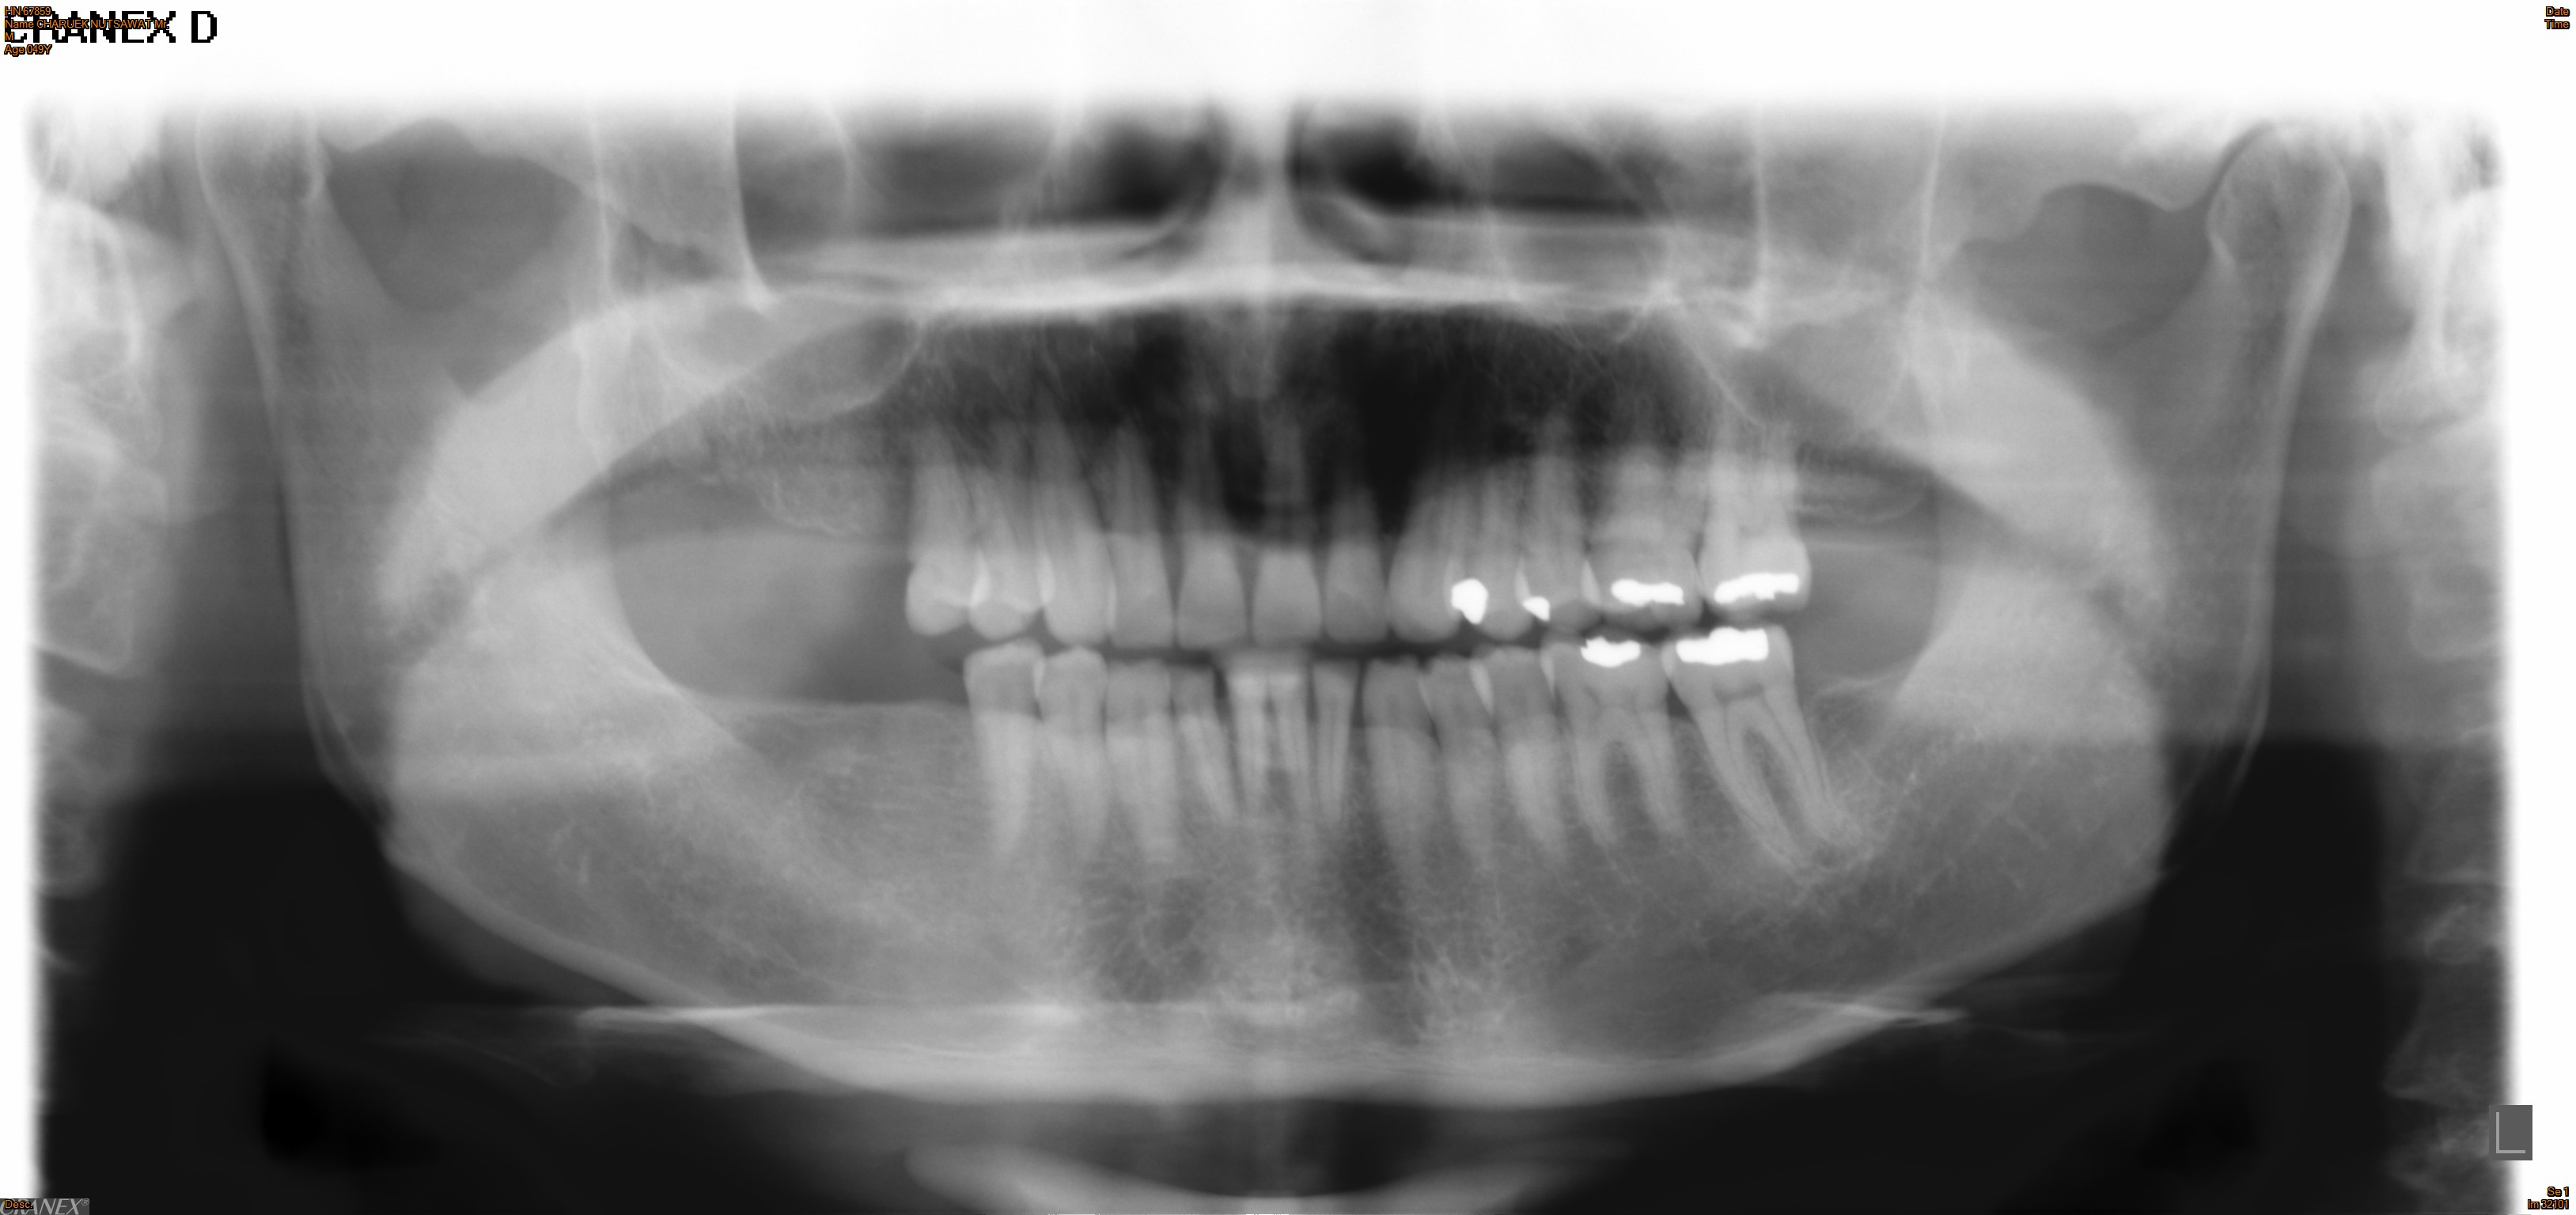periodontitis: (1648, 619, 1863, 883)
